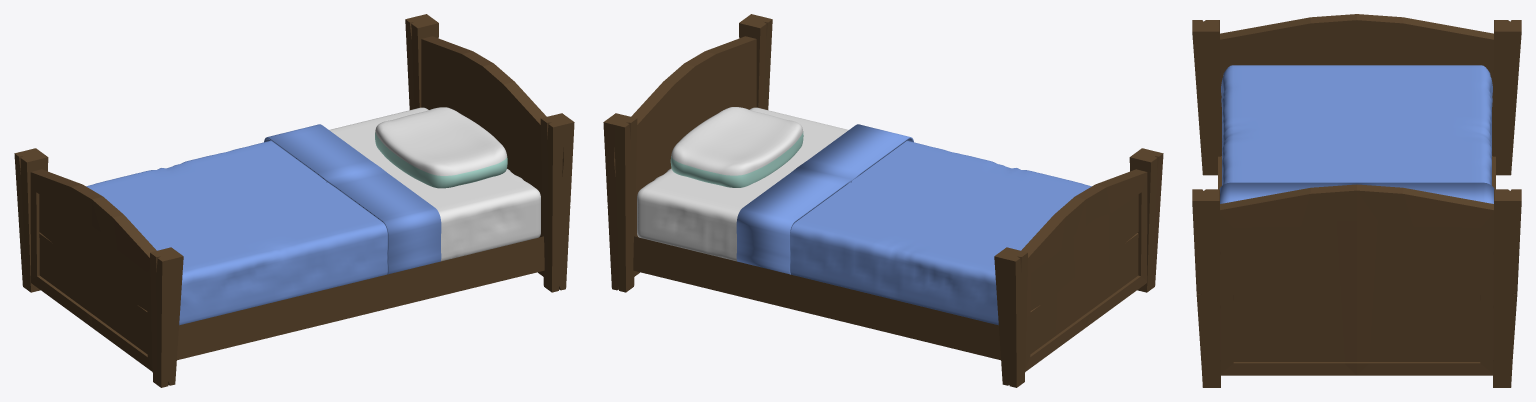
The model's file is uploads_files_3761292_bed+cartoon.fbx.
3 renders of one model, left to right at view 1: azimuth 30°, elevation 25°; view 2: azimuth 150°, elevation 25°; view 3: azimuth 270°, elevation 25°, orthographic. The views are drawn at different scales.
Visible parts, largest first — view 1: Cube.092, Cube.042, Cube.026, Cube.021; view 2: Cube.092, Cube.042, Cube.026, Cube.021; view 3: Cube.092, Cube.042.
Part boxes in pixels (x1=…): Cube.092: x1=14, y1=14, x2=574, y2=387; Cube.042: x1=86, y1=124, x2=441, y2=325; Cube.026: x1=329, y1=107, x2=540, y2=261; Cube.021: x1=375, y1=107, x2=507, y2=188; Cube.092: x1=603, y1=14, x2=1163, y2=387; Cube.042: x1=736, y1=124, x2=1091, y2=325; Cube.026: x1=637, y1=107, x2=848, y2=261; Cube.021: x1=670, y1=107, x2=803, y2=187; Cube.092: x1=1192, y1=14, x2=1521, y2=387; Cube.042: x1=1219, y1=65, x2=1494, y2=203.
Bounding box in the file's own units: 213 × 86.92 × 133.
